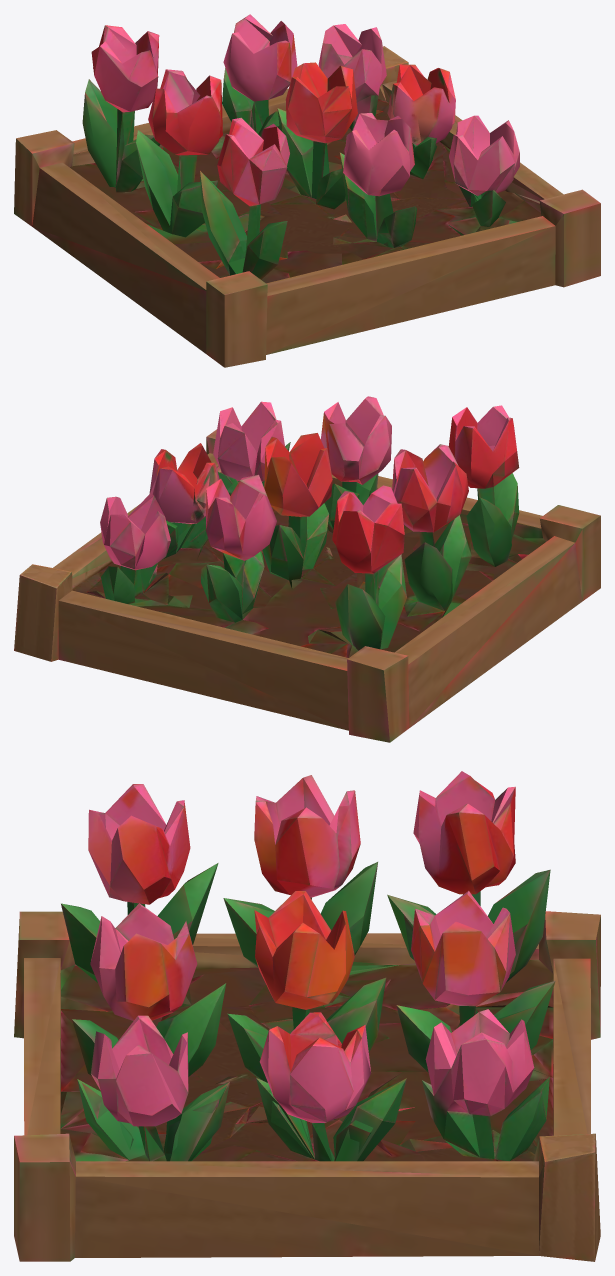
Rendered from flower-tulip-bed.glb.
The picture shows the model from 3 angles, top to bottom: view 1: azimuth 30°, elevation 25°; view 2: azimuth 150°, elevation 25°; view 3: azimuth 270°, elevation 25°; orthographic projection. The views are drawn at different scales.
Parts seen in each view (by area): view 1: flower-tulip-bed-fit; view 2: flower-tulip-bed-fit; view 3: flower-tulip-bed-fit.
Boxes of the visible parts, box(x1,y1,x2,y2) form: flower-tulip-bed-fit: box(14, 14, 600, 367); flower-tulip-bed-fit: box(14, 396, 600, 742); flower-tulip-bed-fit: box(14, 771, 600, 1261).
Bounding box in the file's own units: 1.19 × 0.6 × 1.18.
Materials: 1 (1 with a texture image).
